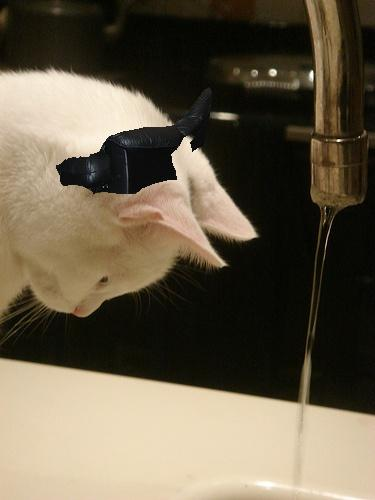tampered: (57, 88, 212, 194)
